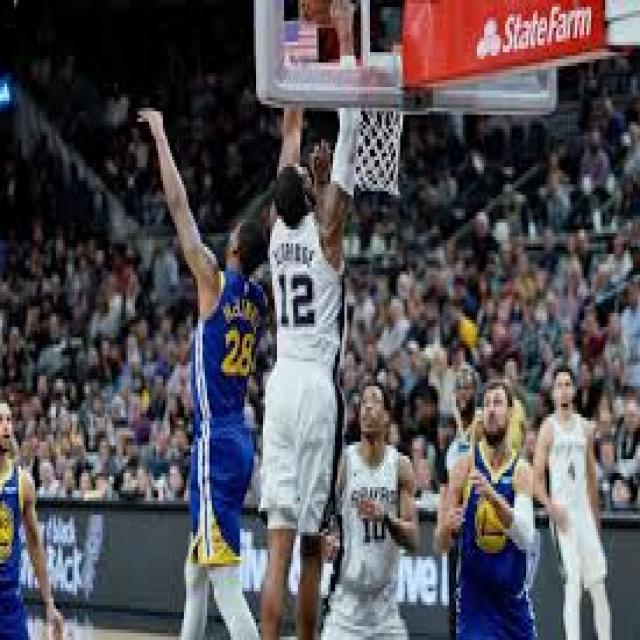rim: (307, 0, 346, 31)
